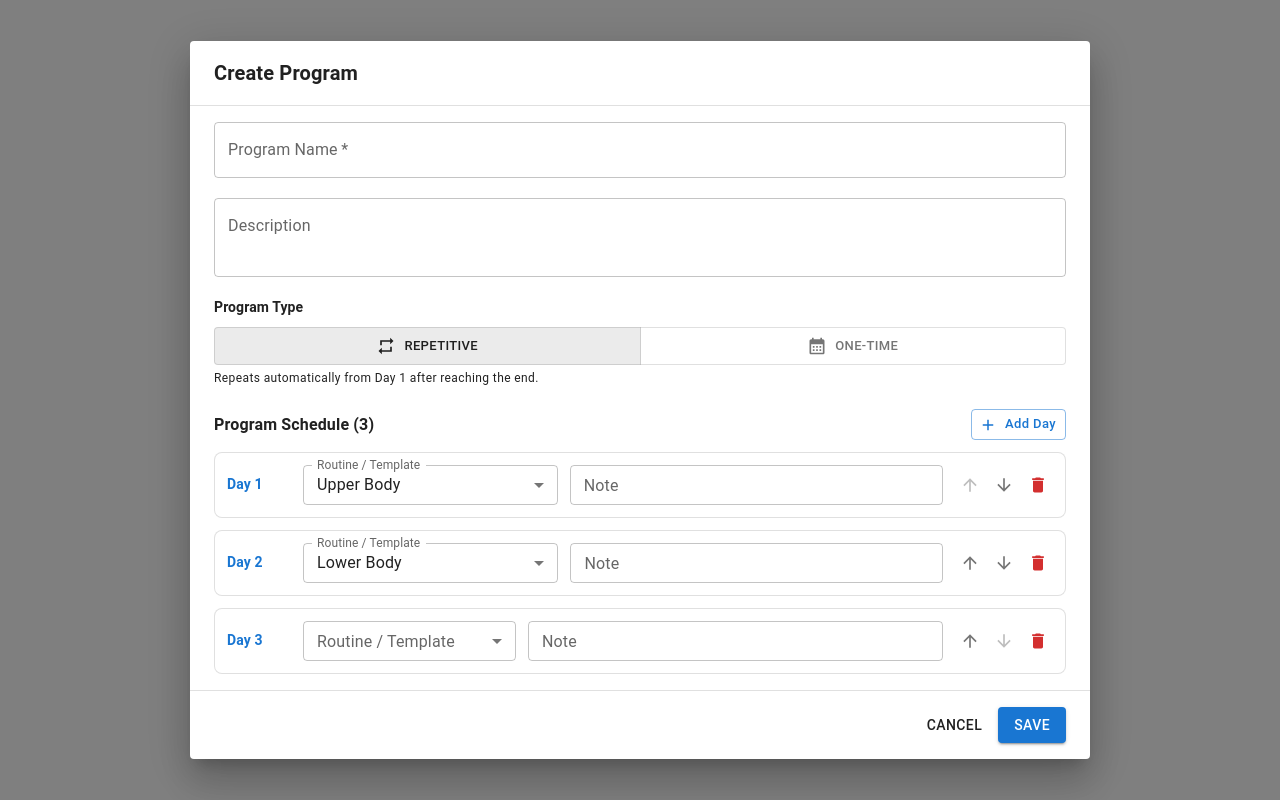
Test: ProgramDialog › displays error if submitted with empty name
The image size is (1280, 800).
Click the button "Save" at (1032, 725), box top-left (998, 707), bottom-right (1066, 743)
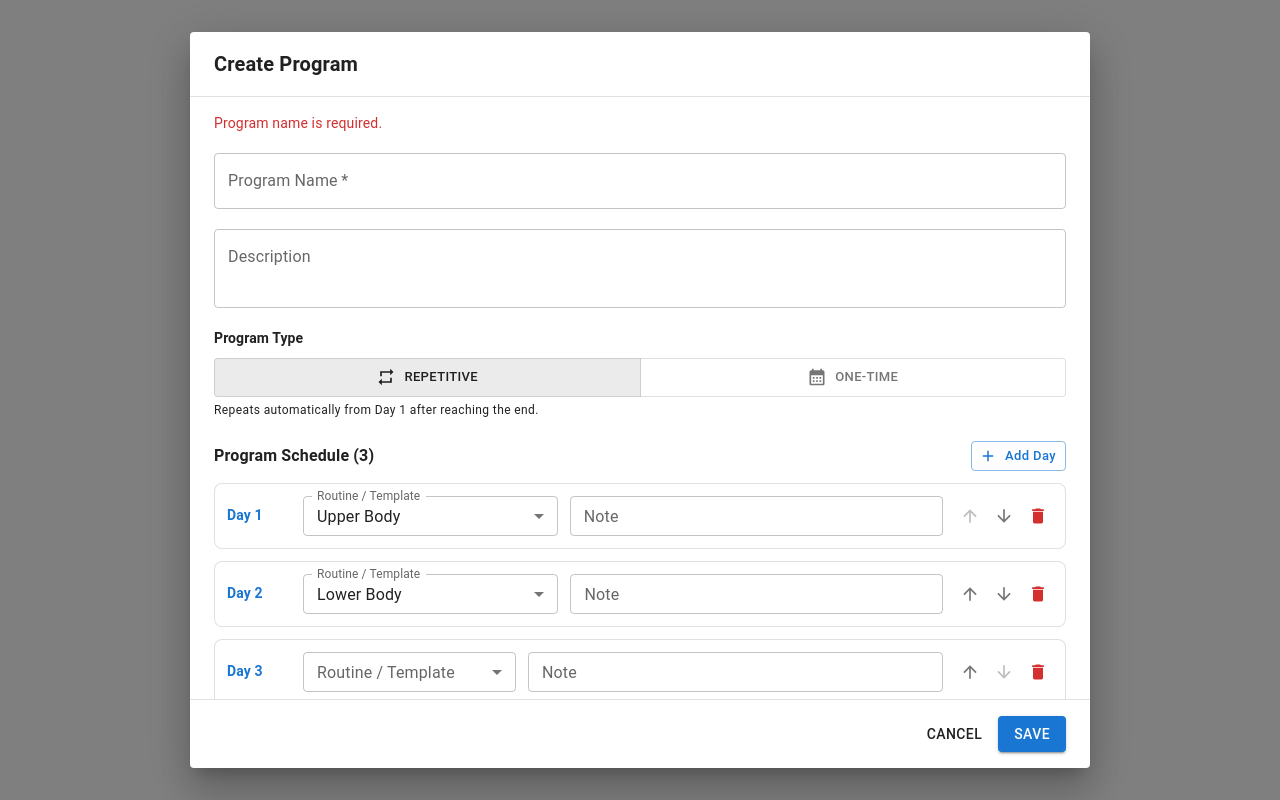
Expected: the text "Program name is required." is shown, top-left (214, 115), bottom-right (382, 131)
